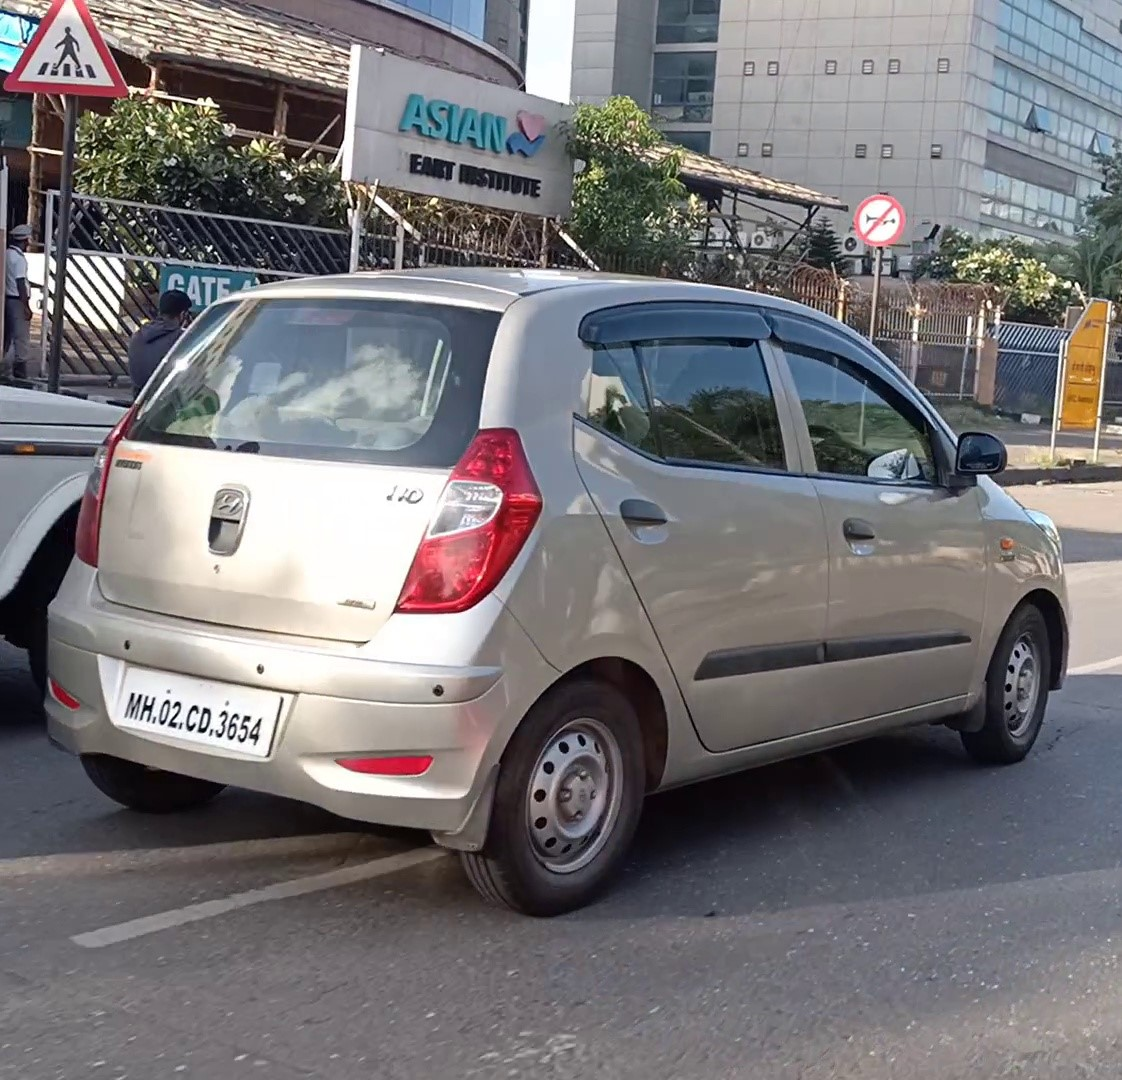MH02CD3654: (114, 665, 283, 761)
